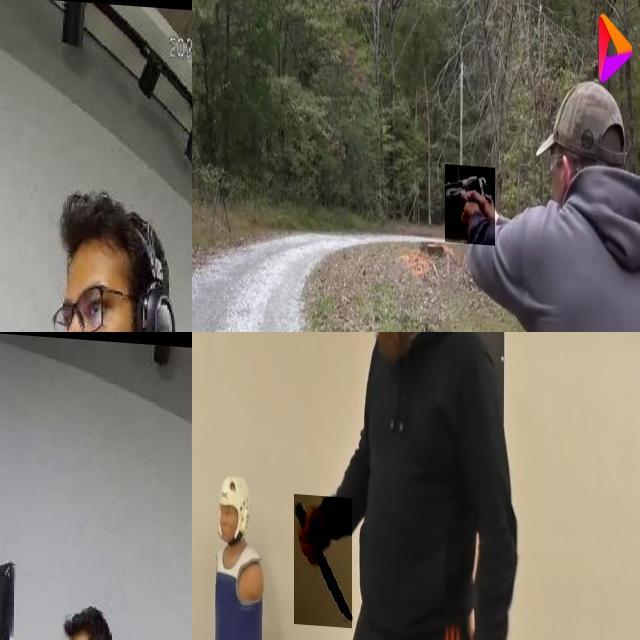-: (294, 491, 352, 624)
gun-knife-thesis - v11 Yolov5 augmented: (444, 158, 496, 240)
